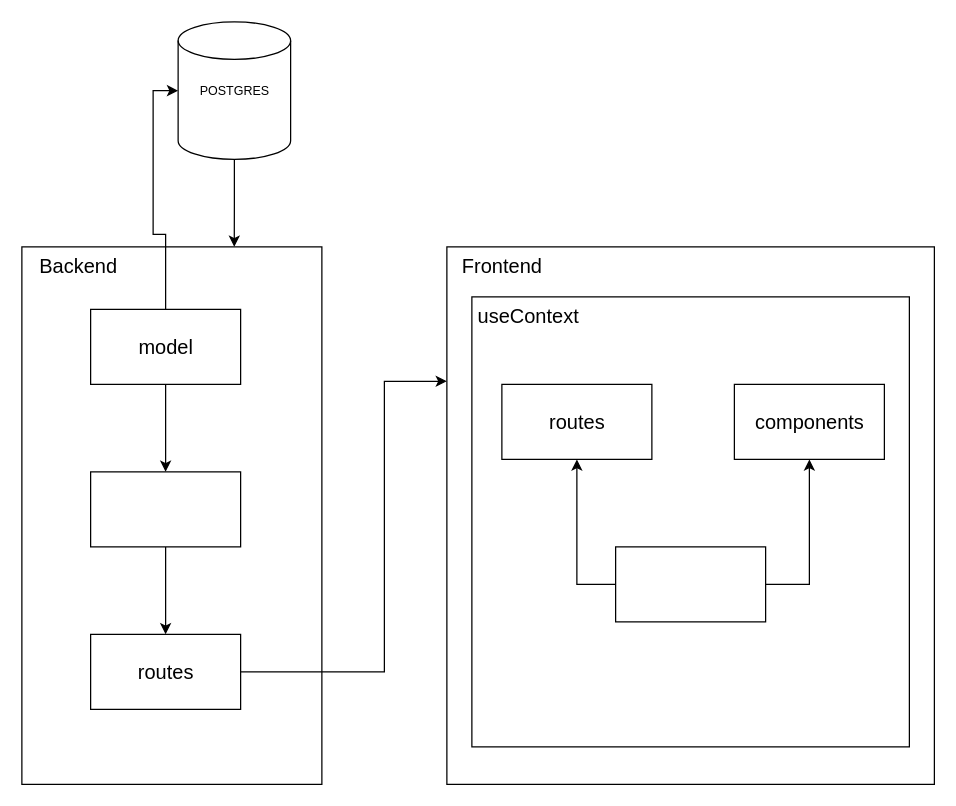
The diagram is 956 pixels wide and 806 high, and some of its shapes have lost their labels. The centre of each missing label's shape, as x and y in pixels:
controller: [165,509]
services: [690,584]
